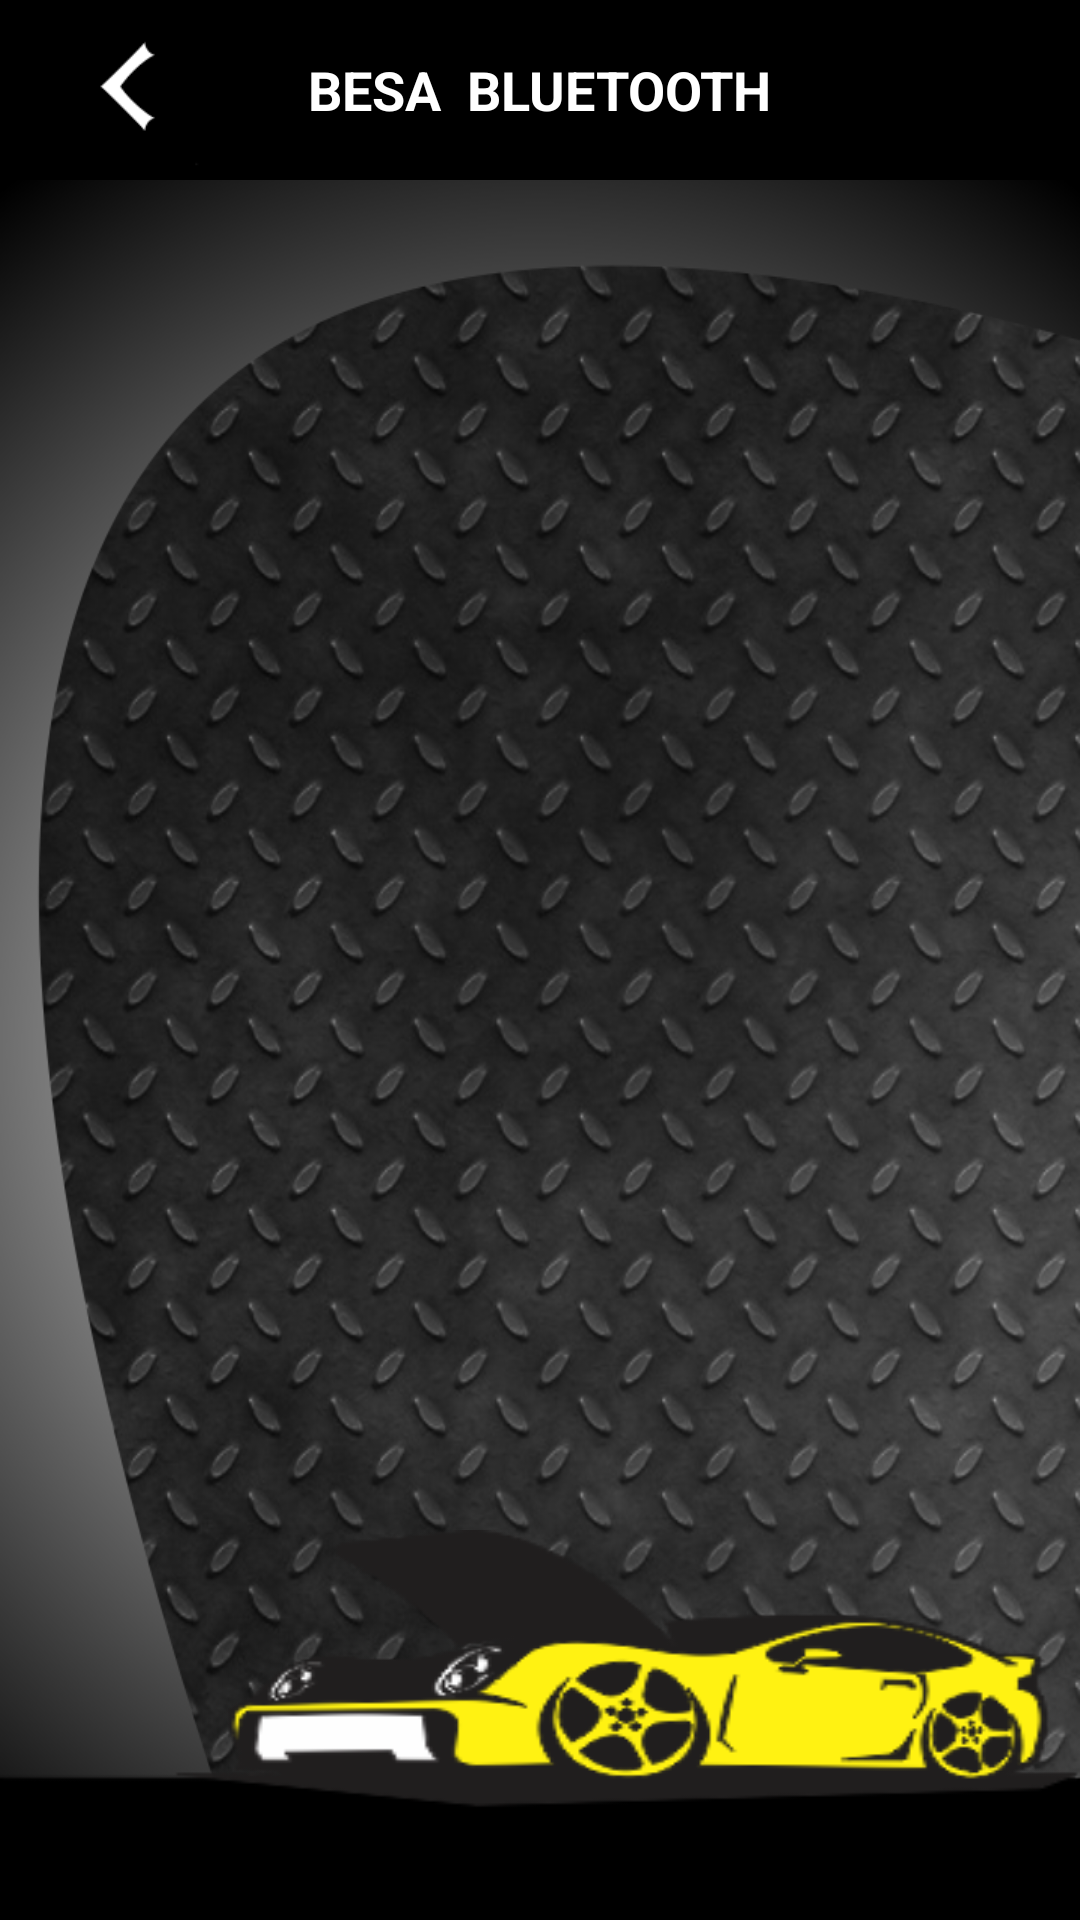

Screen size 1080px×1920px. Icon name, then its center in pixels as [x,y]:
back: [127,86]
